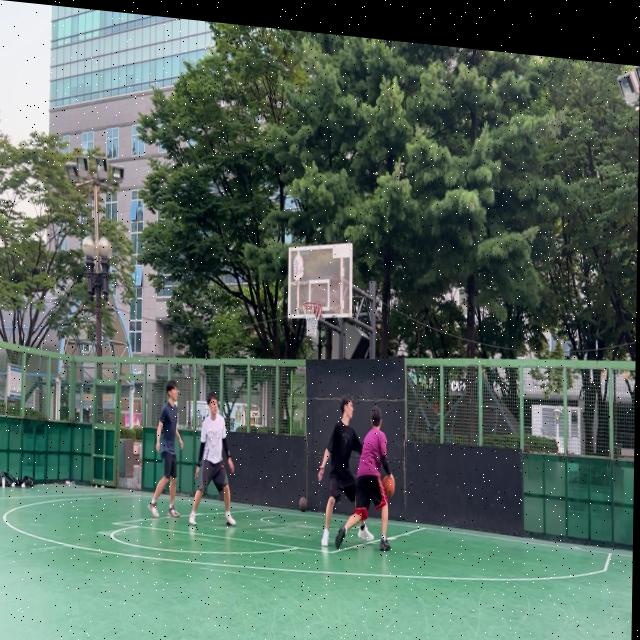basketball: (382, 475, 395, 498), (299, 495, 308, 513)
hoop: (302, 301, 322, 339)
